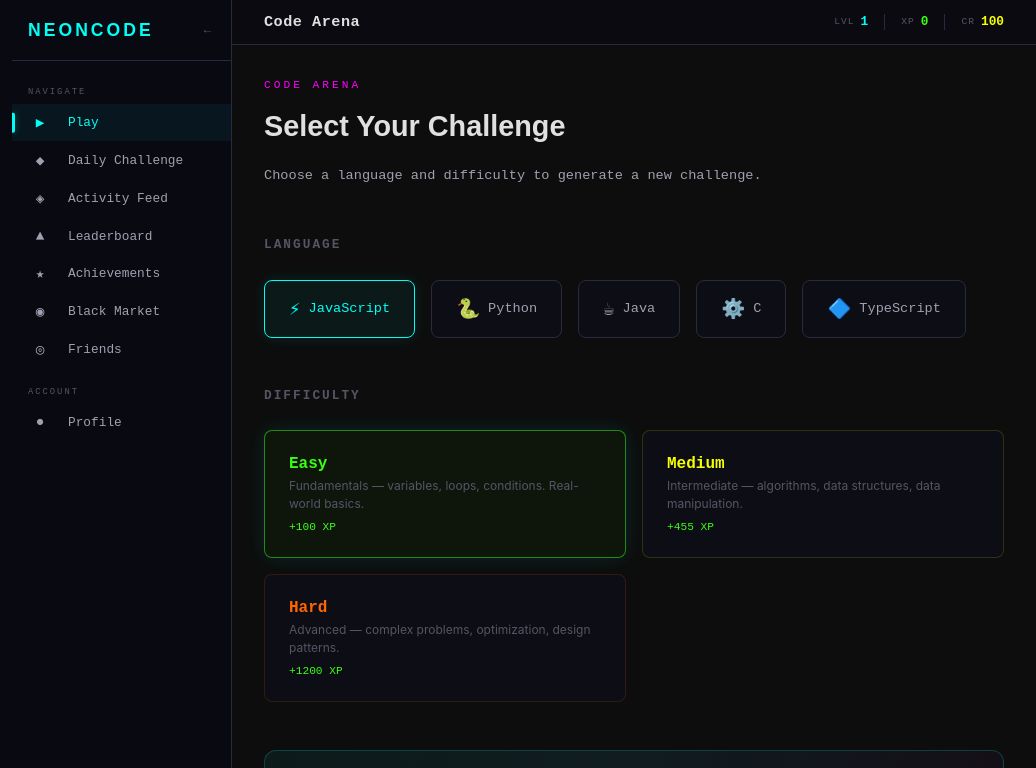
Test: MainPage › switches to achievements view
Click the button "★ Achievements" at (122, 274), box [12, 255, 231, 292]
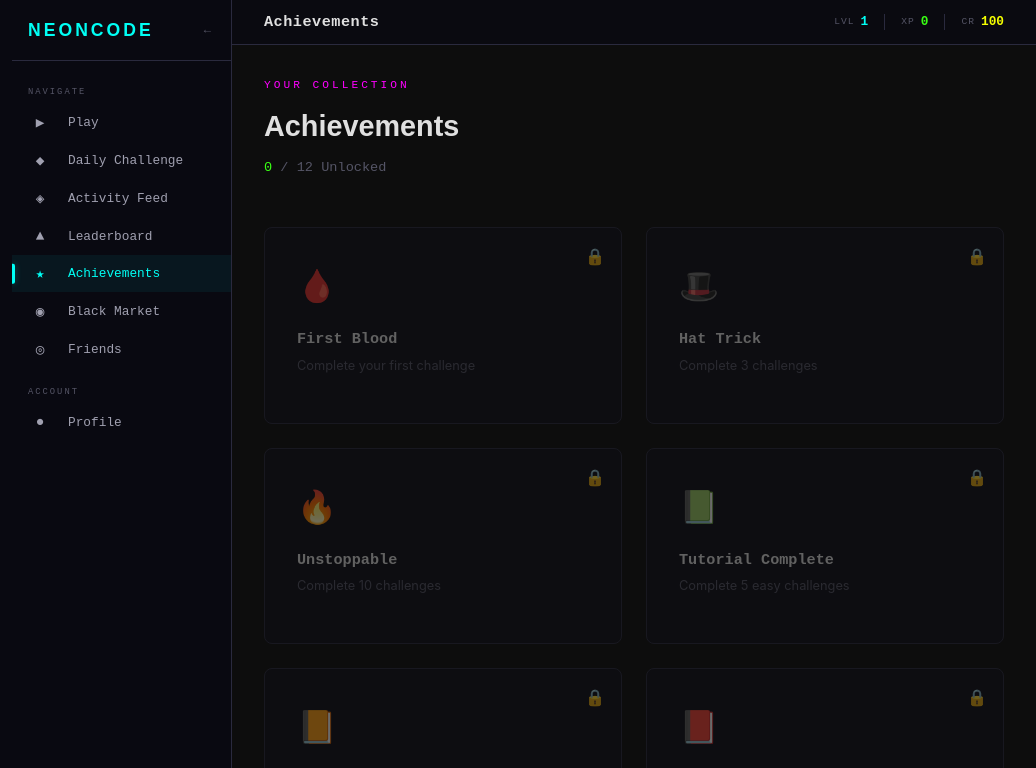
Expected: the heading "First Blood" is shown, [297, 330, 397, 348]
